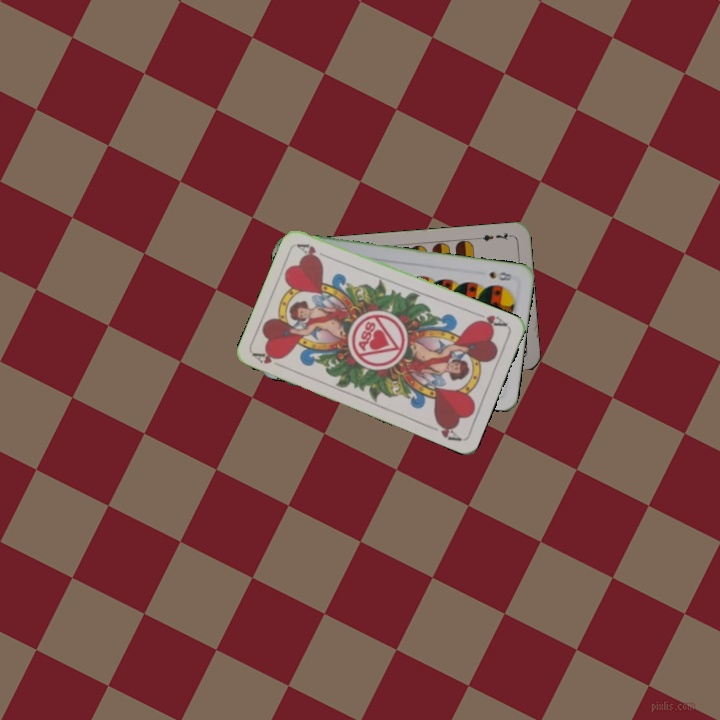E7: (474, 228, 514, 244)
HA: (250, 347, 289, 371), (471, 308, 510, 331)
S8: (485, 267, 517, 283)
